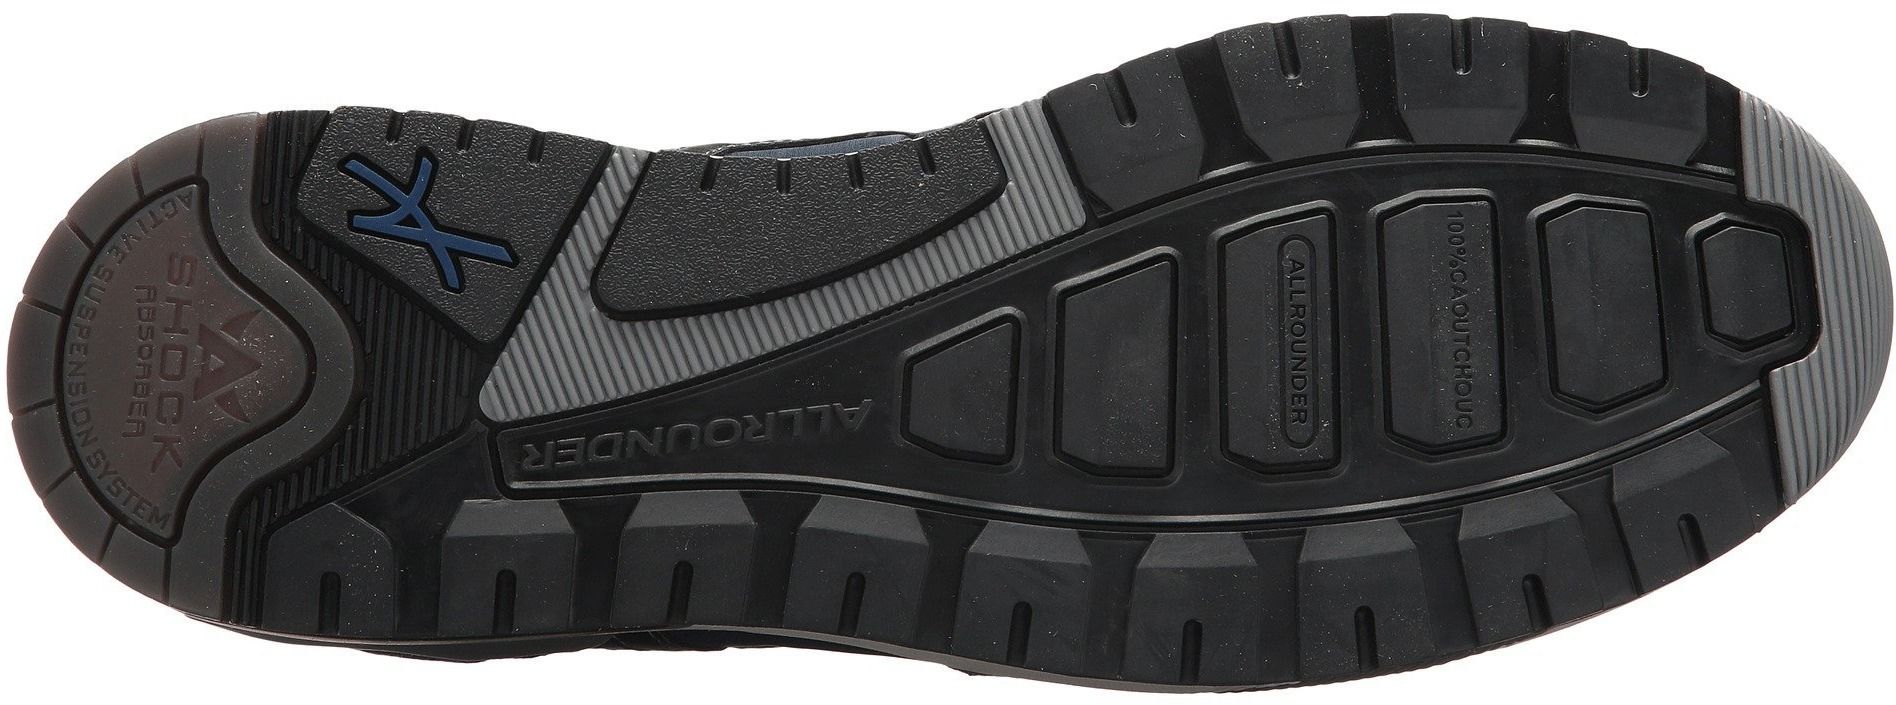circle: (1435, 214, 1485, 271), (700, 401, 746, 460), (1443, 372, 1484, 403), (67, 408, 104, 439), (1443, 296, 1481, 327), (1281, 313, 1311, 345), (1283, 372, 1314, 395), (131, 337, 158, 362)
other: (651, 164, 779, 283), (447, 131, 549, 231), (786, 164, 866, 243), (1821, 258, 1889, 330)
polygon: (1363, 164, 1677, 473), (1671, 210, 1817, 352)
quad: (1052, 200, 1345, 486), (871, 304, 1047, 482), (784, 487, 949, 651), (432, 489, 579, 635), (1117, 534, 1264, 678), (60, 144, 233, 265), (1382, 15, 1536, 145), (1272, 221, 1329, 452)
text: (320, 144, 532, 291), (60, 144, 233, 265), (1272, 221, 1329, 452), (23, 320, 122, 428), (771, 369, 883, 463), (667, 377, 776, 470), (122, 243, 210, 333), (181, 320, 266, 404), (117, 395, 192, 475), (118, 327, 198, 397), (511, 420, 592, 486), (585, 415, 664, 476)
triangle: (320, 144, 532, 291), (206, 343, 235, 383)
